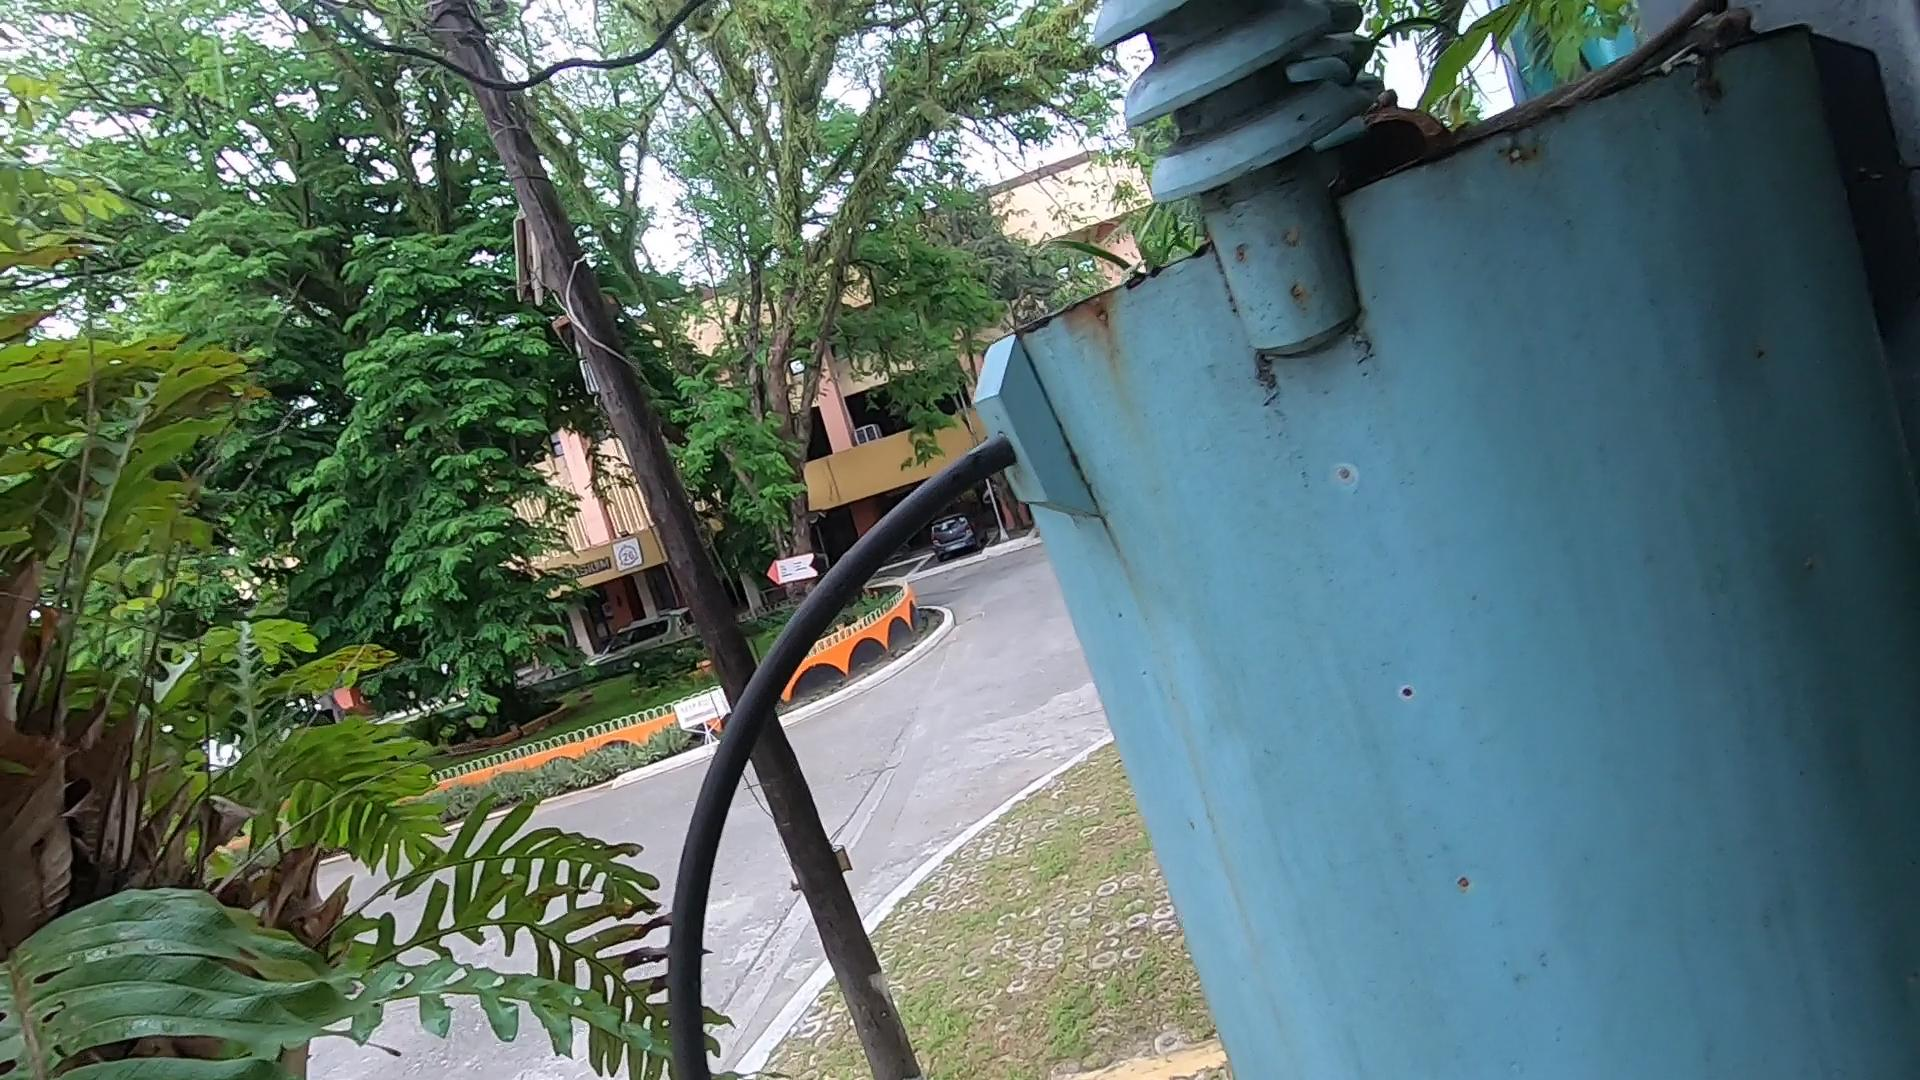mahogany fruit: (1354, 117, 1547, 258)
tree branch: (1403, 7, 1729, 169)
